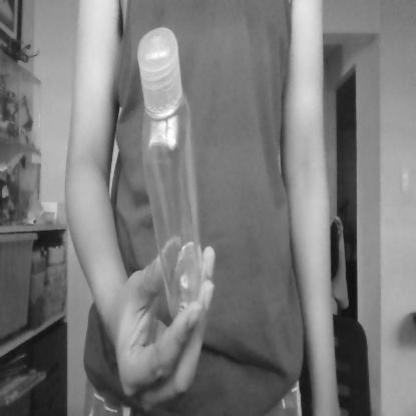Plastic Bottle: (129, 17, 211, 328)
